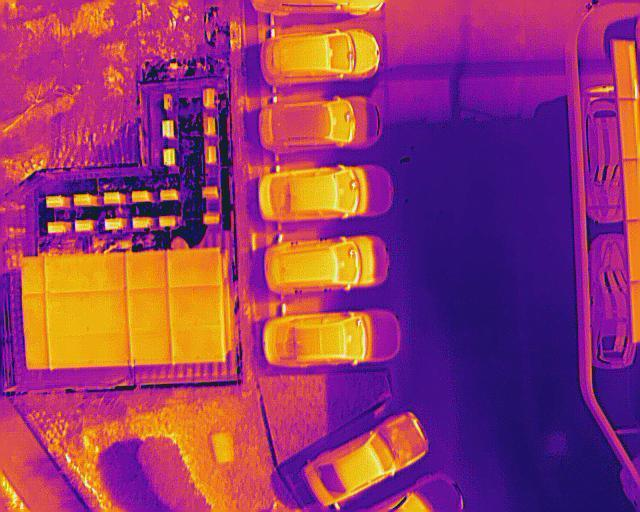Unclassified: (612, 39, 638, 98)
